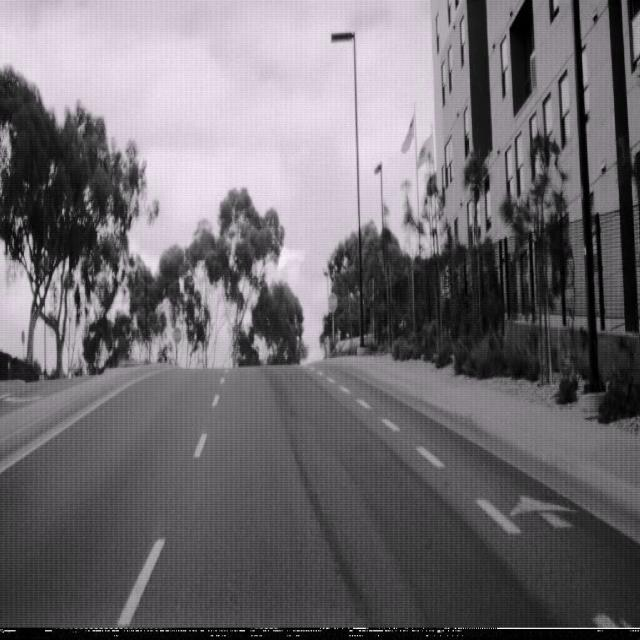stop: (327, 293, 337, 313), (172, 326, 182, 343)
